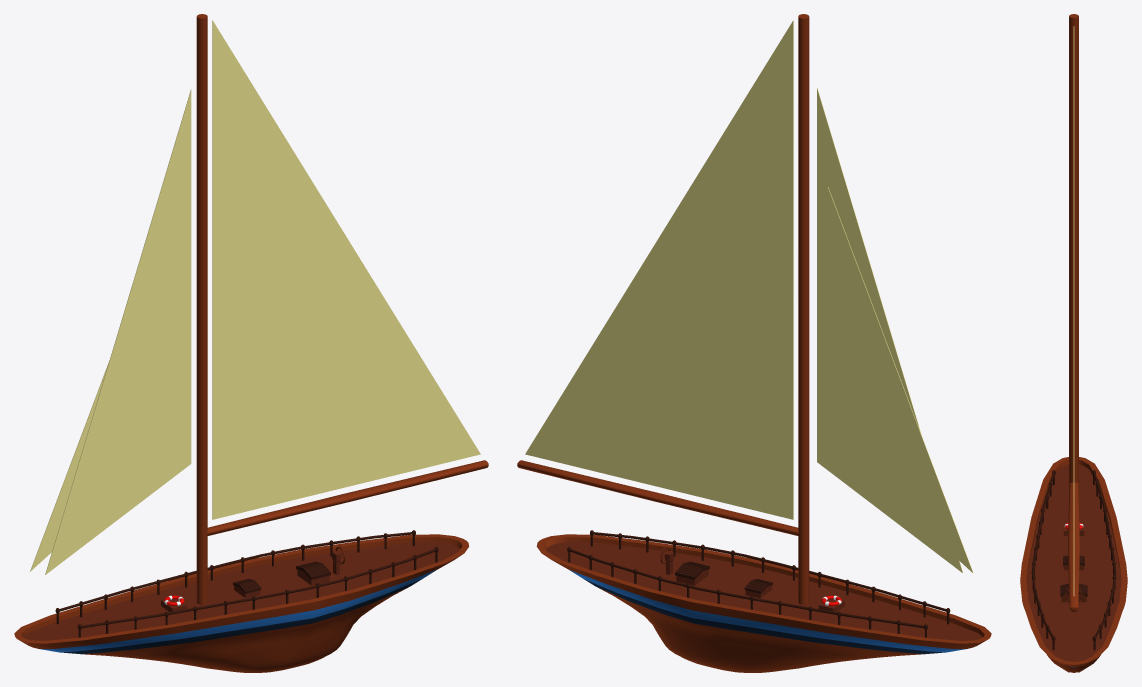
Rendered from bateau_entier.fbx.
3 views of the same model, side by side, from view 1: azimuth 30°, elevation 25°; view 2: azimuth 150°, elevation 25°; view 3: azimuth 270°, elevation 25° (orthographic). The views are drawn at different scales.
Parts seen in each view (by area): view 1: Bateau_mer; view 2: Bateau_mer; view 3: Bateau_mer.
Part boxes in pixels (left/top/right/bottom): Bateau_mer: left=14, top=14, right=488, bottom=672; Bateau_mer: left=517, top=14, right=991, bottom=672; Bateau_mer: left=1020, top=14, right=1127, bottom=672.
Bounding box in the file's own units: 825 × 1120 × 181.
